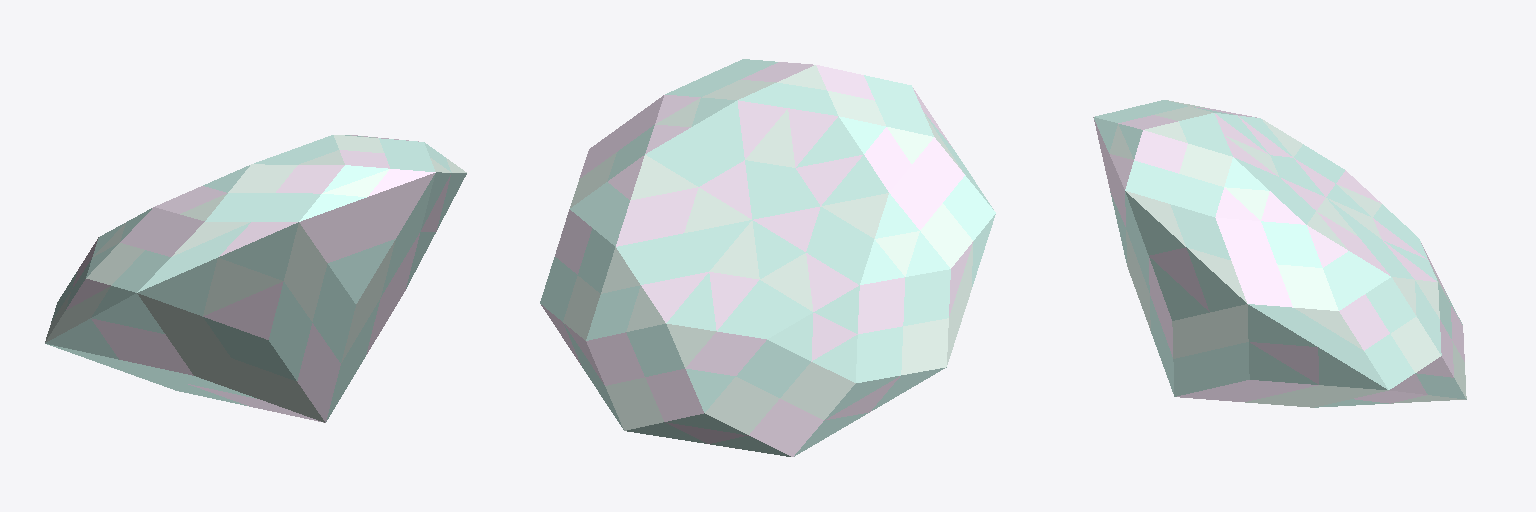
The model's file is Diamond.obj.
The picture shows the model from 3 angles: view 1: azimuth 30°, elevation 25°; view 2: azimuth 150°, elevation 25°; view 3: azimuth 270°, elevation 25°; orthographic projection.
Parts seen in each view (by area): view 1: Gem; view 2: Gem; view 3: Gem.
Boxes of the visible parts, <box> form: Gem: <box>45,135,466,422</box>; Gem: <box>540,59,995,456</box>; Gem: <box>1093,100,1466,407</box>.
Size of the model in its own units: 0.1701 by 0.1134 by 0.1409.